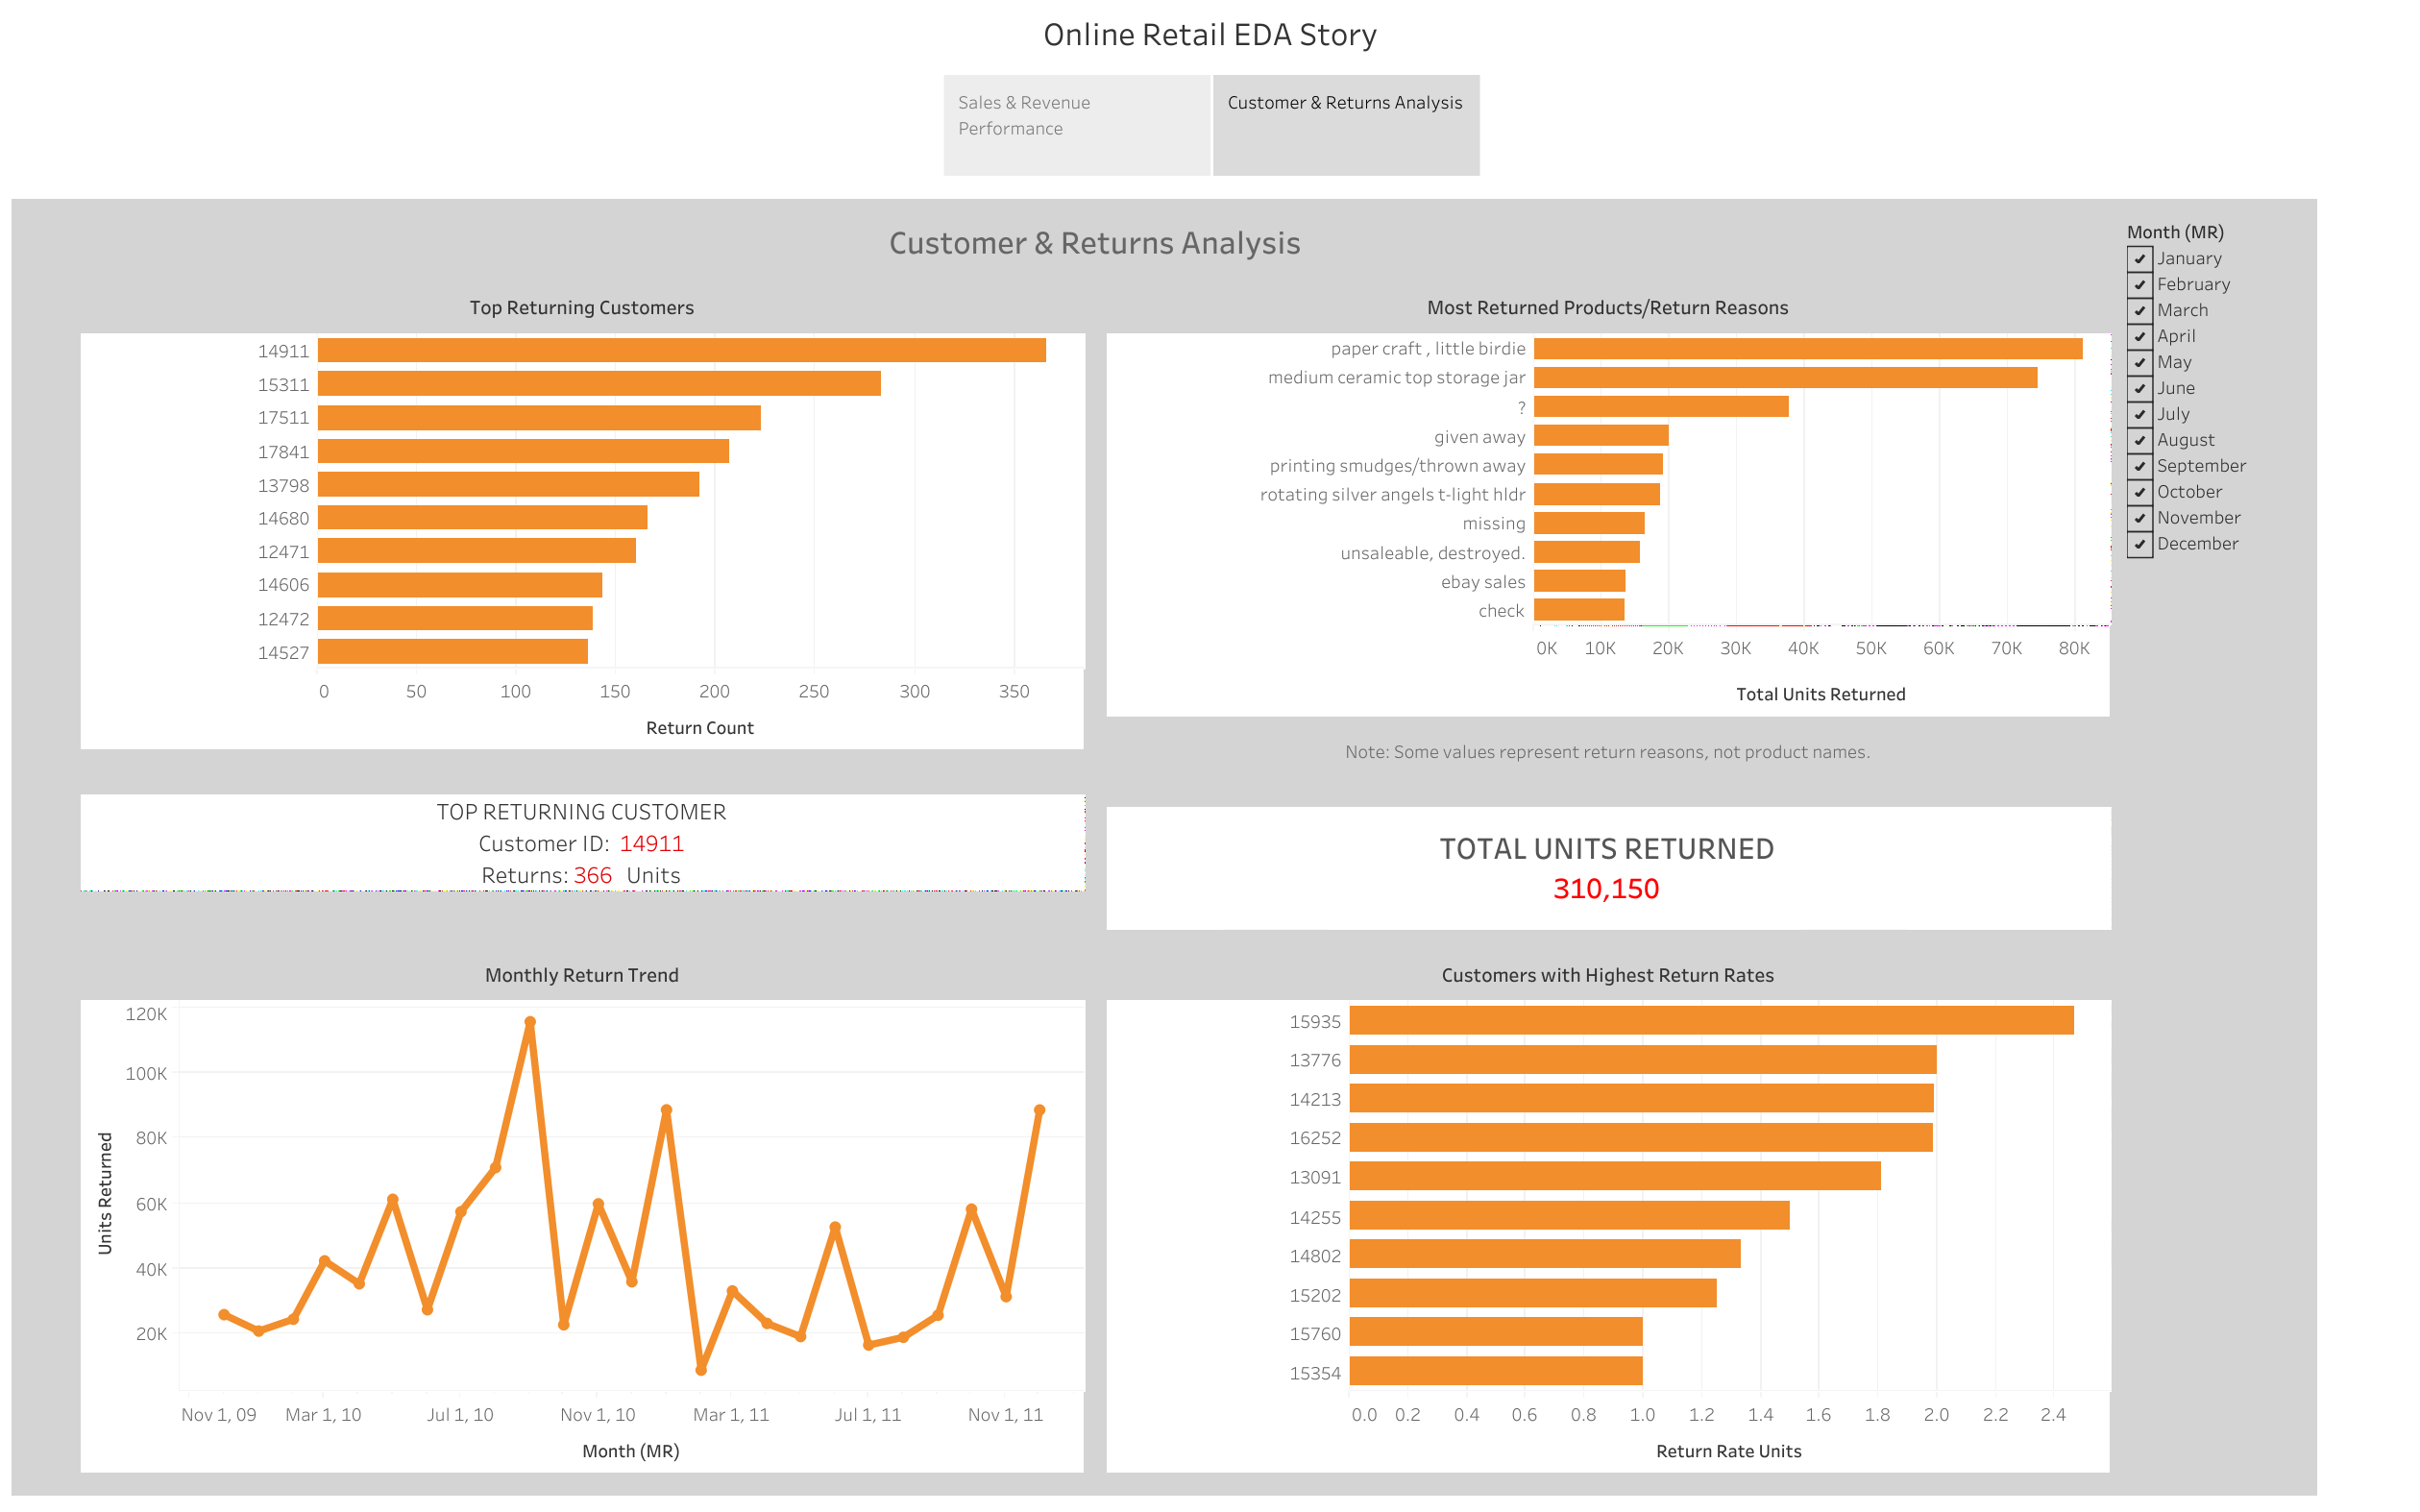

The page's visual inventory and layout, read from the dashboard file:
{"tool":"tableau","page":{"name":"Customers & Products Return Dashboard","canvas":[1000,1000],"units":"permille","ordinal":0},"visuals":[{"type":"worksheet","title":"Top Returning Customers","mark":"Automatic","rows":["index"],"cols":["Return Count"],"box":[5.3,5.1,446.7,247.3]},{"type":"worksheet","title":"Most Returned Products/Reasons of Returns","mark":"Automatic","rows":["Description (Top!Returned!Products)"],"cols":["Total Units Returned"],"box":[452,5.1,542.8,247.3]},{"type":"dashboard-object","box":[5.3,217.3,107.9,33.3]},{"type":"worksheet","title":"KPI - Top Returning Customer","mark":"Automatic","box":[5.3,252.5,477,247.3]},{"type":"worksheet","title":"KPI - Total Units Returned","mark":"Text","box":[482.2,252.5,512.5,247.3]},{"type":"worksheet","title":"Monthly Return Volume","mark":"Automatic","rows":["Month (Monthly!Returns)"],"cols":["Units Returned"],"box":[5.3,499.8,434.9,495.1]},{"type":"worksheet","title":"Customers With Highst Return Rates","mark":"Automatic","rows":["Customer ID (Returners!by!UnitRate)"],"cols":["ReturnRateUnits"],"box":[440.1,499.8,554.6,495.1]}]}

Visuals, with their boxes on the dashboard's canvas, which has no fixed pixel size, in thousandths of its width and height (x1, y1, x2, y2). These are canvas units, not pixel positions in the 2420x1512 screenshot, which may show the page scaled, cropped or inside an application window:
"Top Returning Customers" worksheet: <box>5,5,452,252</box>
"Most Returned Products/Reasons of Returns" worksheet: <box>452,5,995,252</box>
dashboard-object: <box>5,217,113,251</box>
"KPI - Top Returning Customer" worksheet: <box>5,252,482,500</box>
"KPI - Total Units Returned" worksheet (Text marks): <box>482,252,995,500</box>
"Monthly Return Volume" worksheet: <box>5,500,440,995</box>
"Customers With Highst Return Rates" worksheet: <box>440,500,995,995</box>
